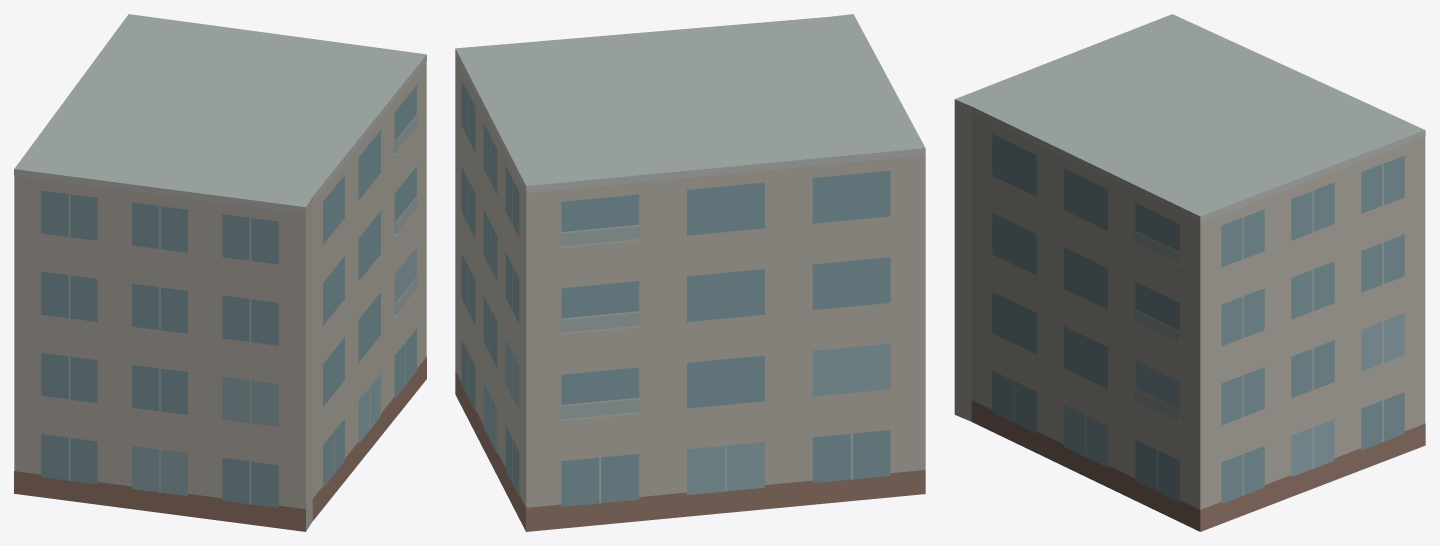
Rendered from survey-upis-33023008.glb.
The picture shows the model from 3 angles, left to right: view 1: azimuth 30°, elevation 25°; view 2: azimuth 150°, elevation 25°; view 3: azimuth 270°, elevation 25°; orthographic projection. The views are drawn at different scales.
Visible parts, largest first — view 1: survey-upis-33023008.tmp; view 2: survey-upis-33023008.tmp; view 3: survey-upis-33023008.tmp.
Boxes of the visible parts, left/top/right/bottom form: survey-upis-33023008.tmp: left=14, top=14, right=426, bottom=531; survey-upis-33023008.tmp: left=455, top=14, right=925, bottom=531; survey-upis-33023008.tmp: left=954, top=14, right=1425, bottom=531.
Size of the model in its own units: 16.25 by 11.8 by 15.97.
